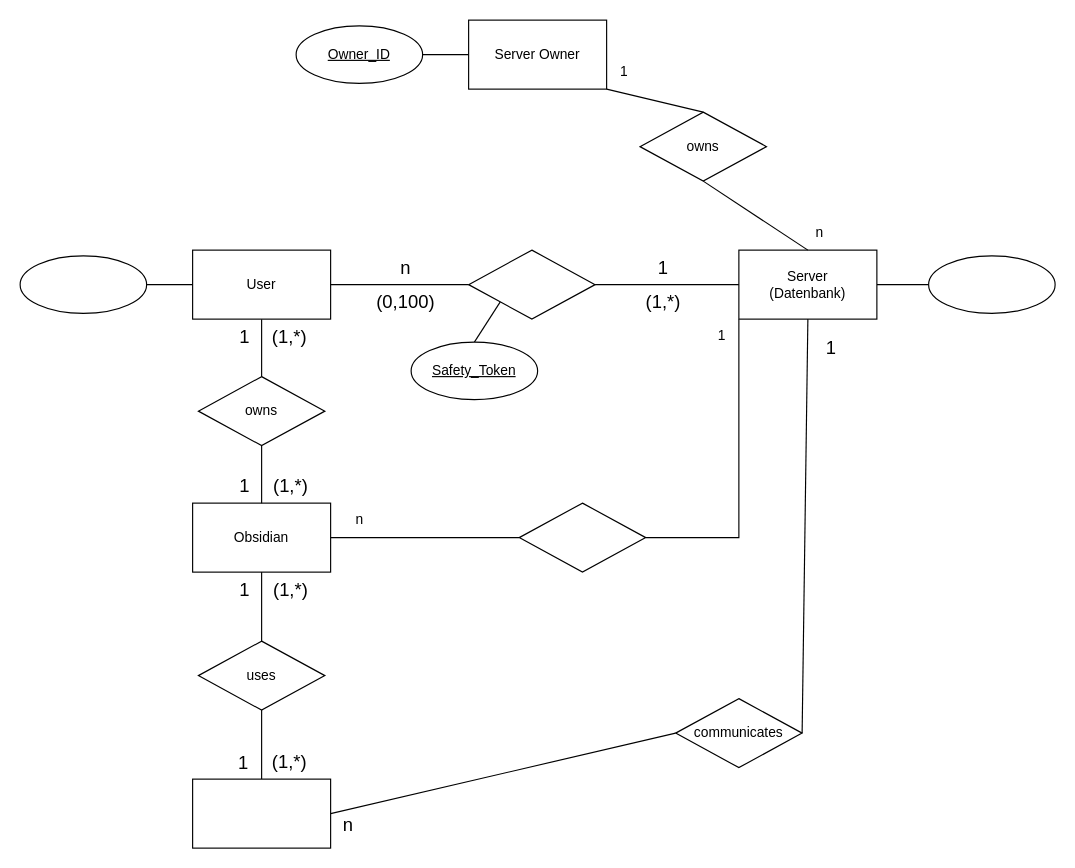
Image size: 1075x868. Some labels were removed from this diagram. Each missing label, with the centre of its shape:
"authentifiziert" goes at [531,284].
"file exchange" goes at [582,537].
"Obsidian_Plugin" goes at [261,813].
"Token" goes at [991,284].
"User_ID" goes at [83,284].
